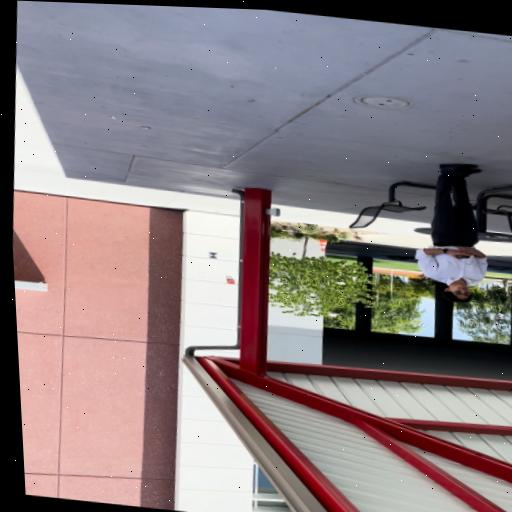target2: (208, 252, 219, 259)
